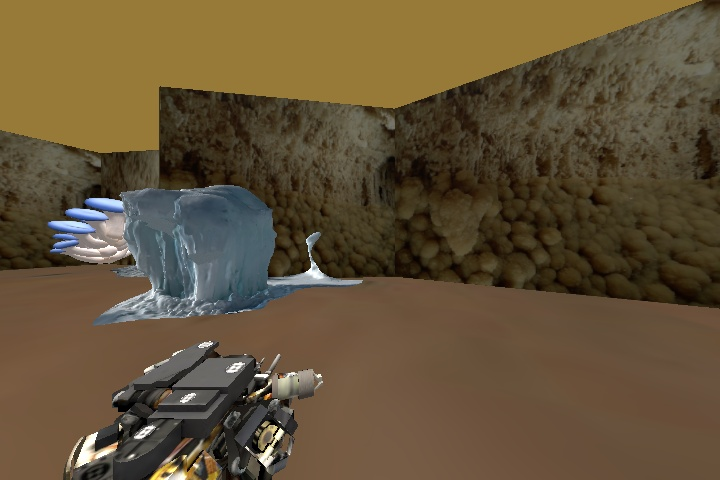minerals: (122, 184, 275, 323)
mushroom: (49, 198, 119, 265)
